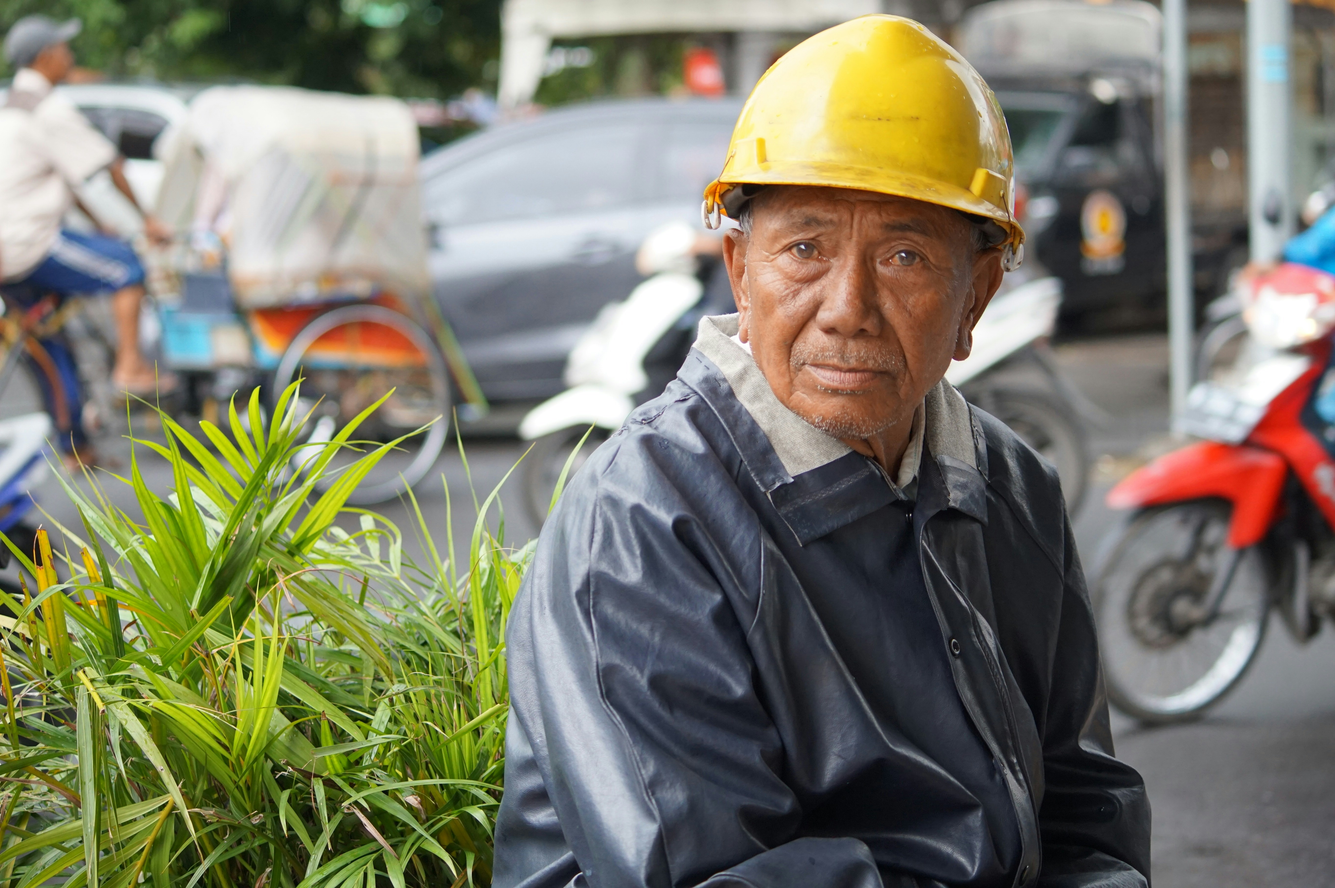Helmet: (692, 10, 1028, 441)
